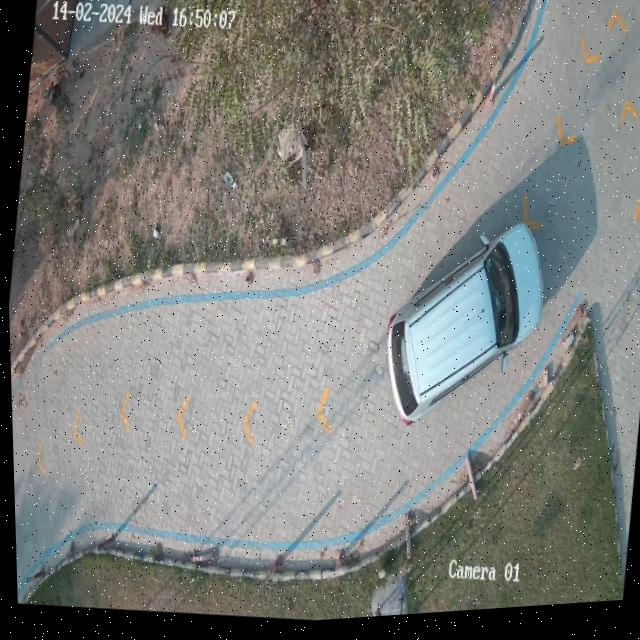car: (385, 231, 541, 426)
